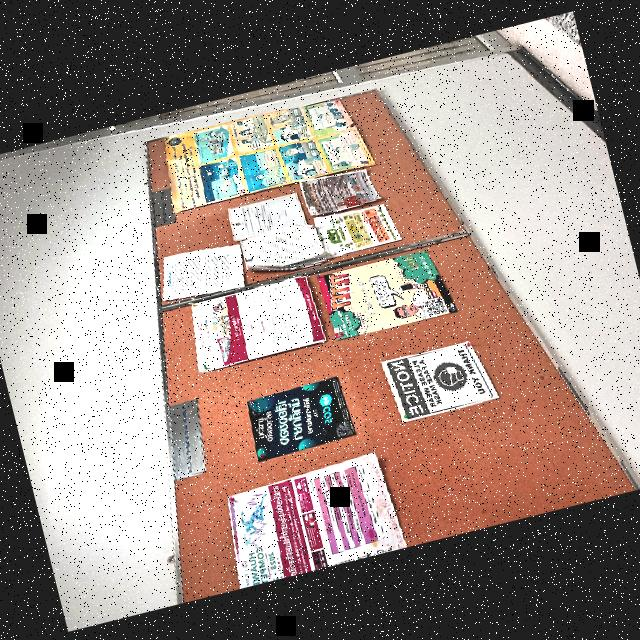reuseable_paper: (128, 82, 410, 305), (210, 441, 416, 588), (173, 269, 334, 382), (312, 242, 454, 344), (374, 328, 500, 431), (236, 370, 364, 464)
